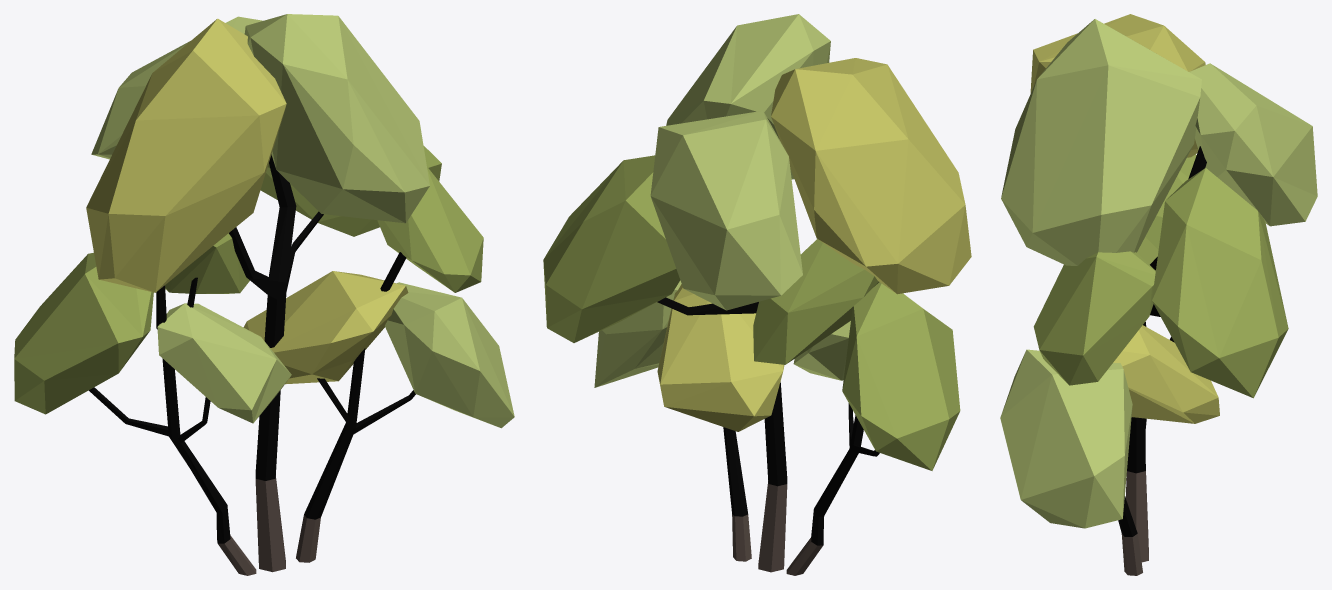
File: tree_0504.dae
3 renders of one model, left to right at view 1: azimuth 30°, elevation 25°; view 2: azimuth 150°, elevation 25°; view 3: azimuth 270°, elevation 25°, orthographic. The views are drawn at different scales.
Visible parts, largest first — view 1: tree_0504; view 2: tree_0504; view 3: tree_0504.
Boxes of the visible parts, left/top/right/bottom form: tree_0504: left=14, top=14, right=514, bottom=575; tree_0504: left=543, top=14, right=971, bottom=575; tree_0504: left=1000, top=14, right=1317, bottom=575.
Bounding box in the file's own units: 3.08 × 2.1 × 3.92.
